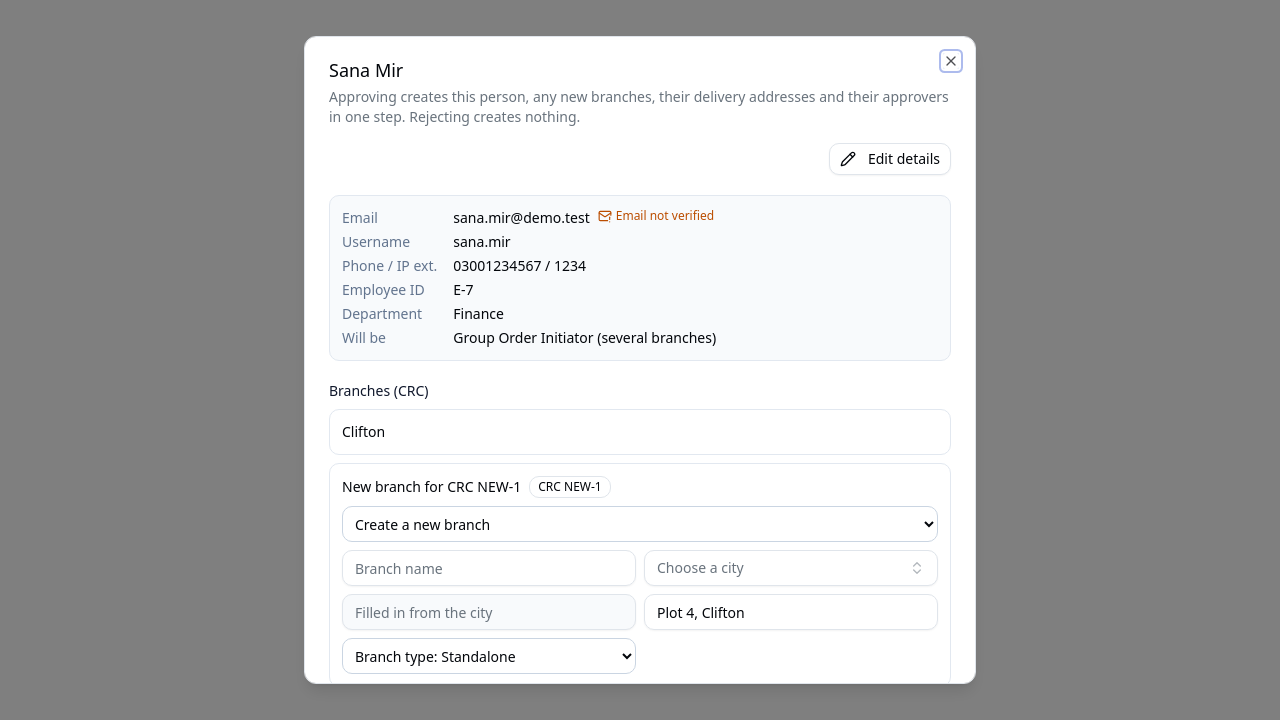
Test: DepartmentJoinReviewDialog — the role each approver ends with › warns, and changes the roles shown, when mapping a CRC leaves fewer branches
This screenshot has width=1280, height=720.
Select "Use existing: Clifton" in the dropdown named "Map CRC NEW-1 to an existing branch". click: (640, 524)
box: [342,506,938,542]
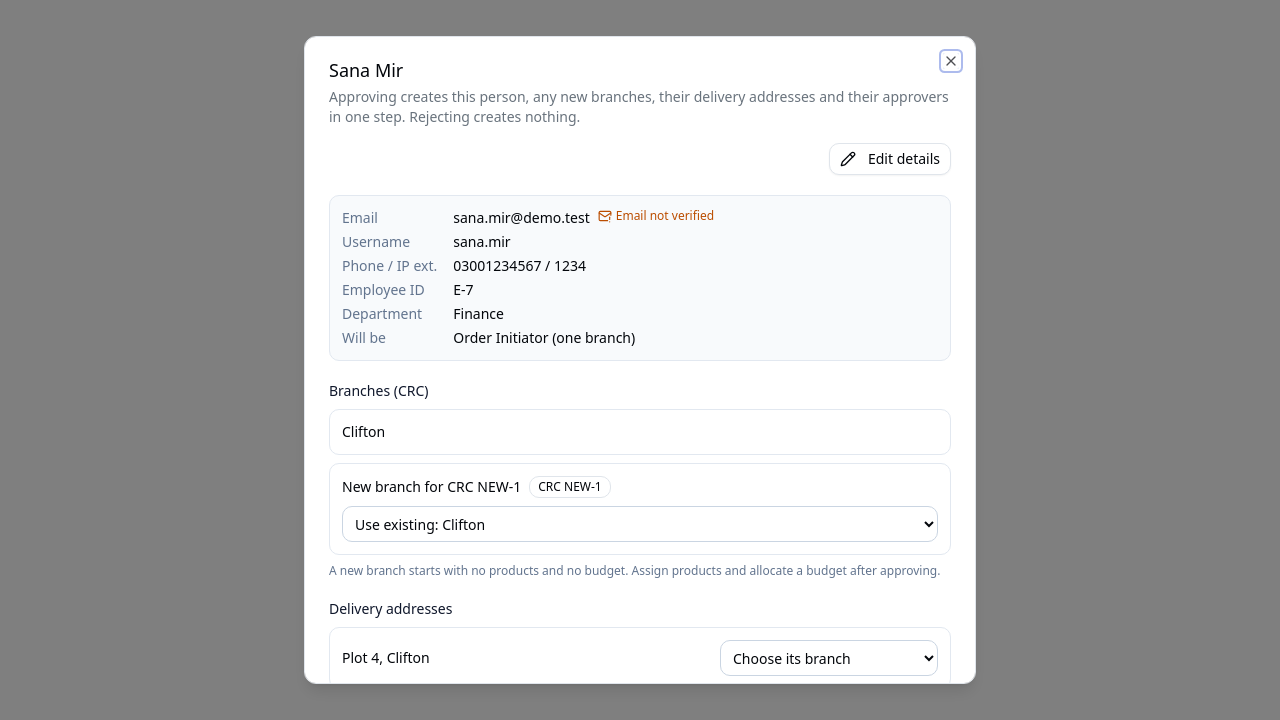
Check: the text "Order Initiator (one branch)" is shown, box [453,328,635,347]
